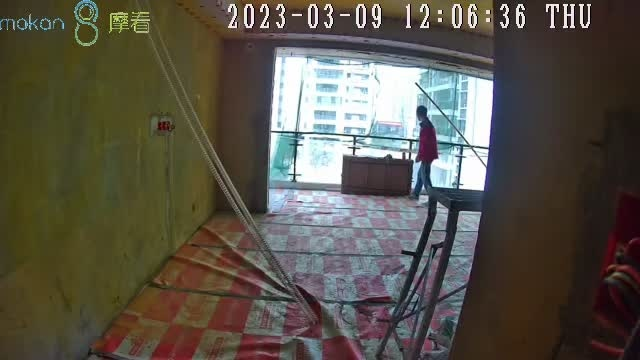people: (414, 105, 438, 202)
window: (270, 56, 493, 192)
